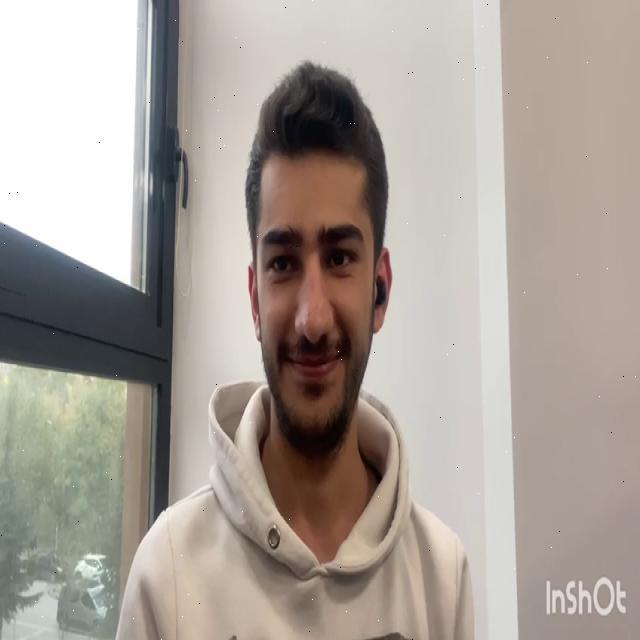happy: (249, 116, 383, 455)
